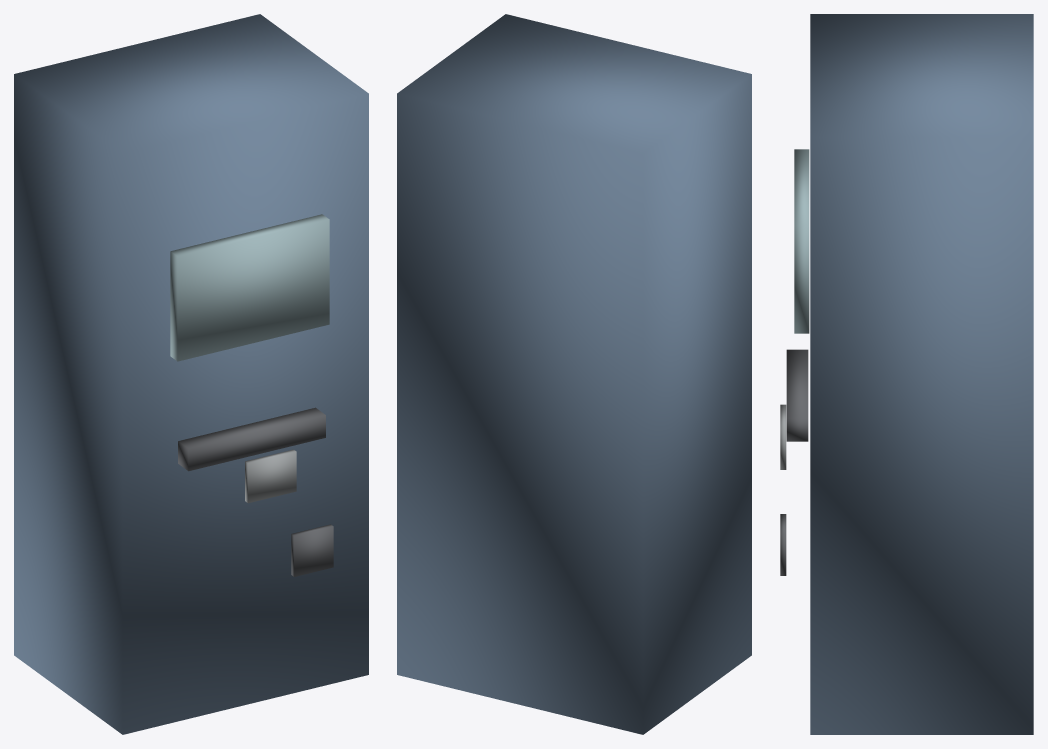
File: information_kiosk__weathered.glb
3 views of the same model, side by side, from view 1: azimuth 30°, elevation 25°; view 2: azimuth 150°, elevation 25°; view 3: azimuth 270°, elevation 25° (orthographic). The views are drawn at different scales.
Visible parts, largest first — view 1: world; view 2: world; view 3: world.
Boxes of the visible parts, x1=… form: world: x1=14, y1=14, x2=368, y2=734; world: x1=397, y1=14, x2=751, y2=734; world: x1=780, y1=14, x2=1033, y2=734.
Size of the model in its own units: 0.68 by 1.53 by 0.5902.
